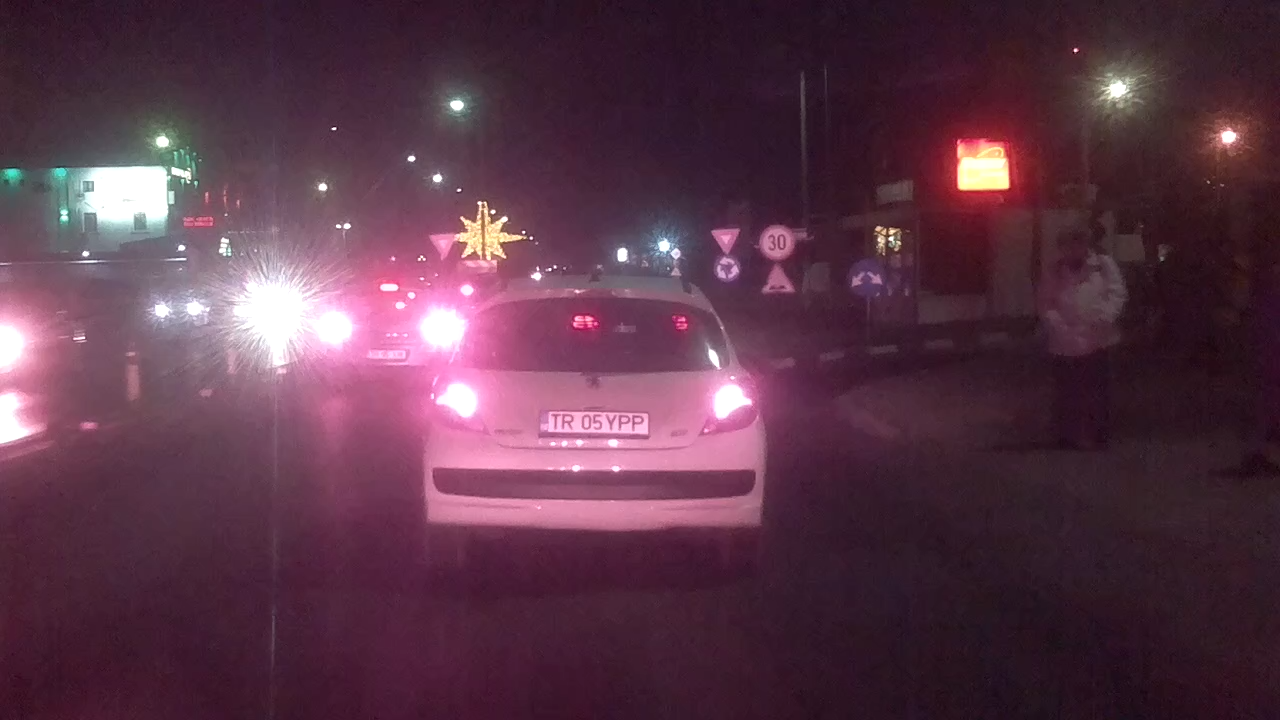license-plate: (536, 407, 654, 437)
